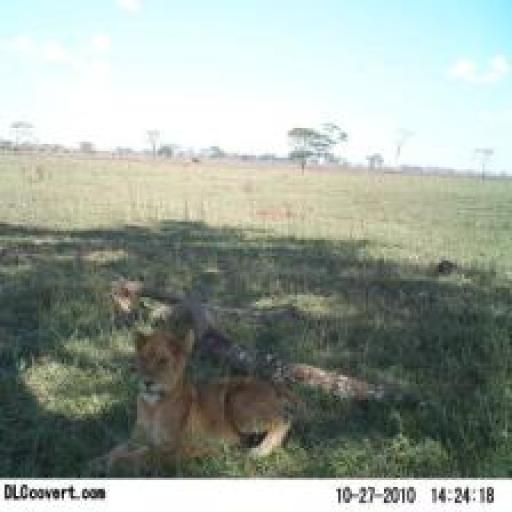lion: (60, 315, 313, 480)
